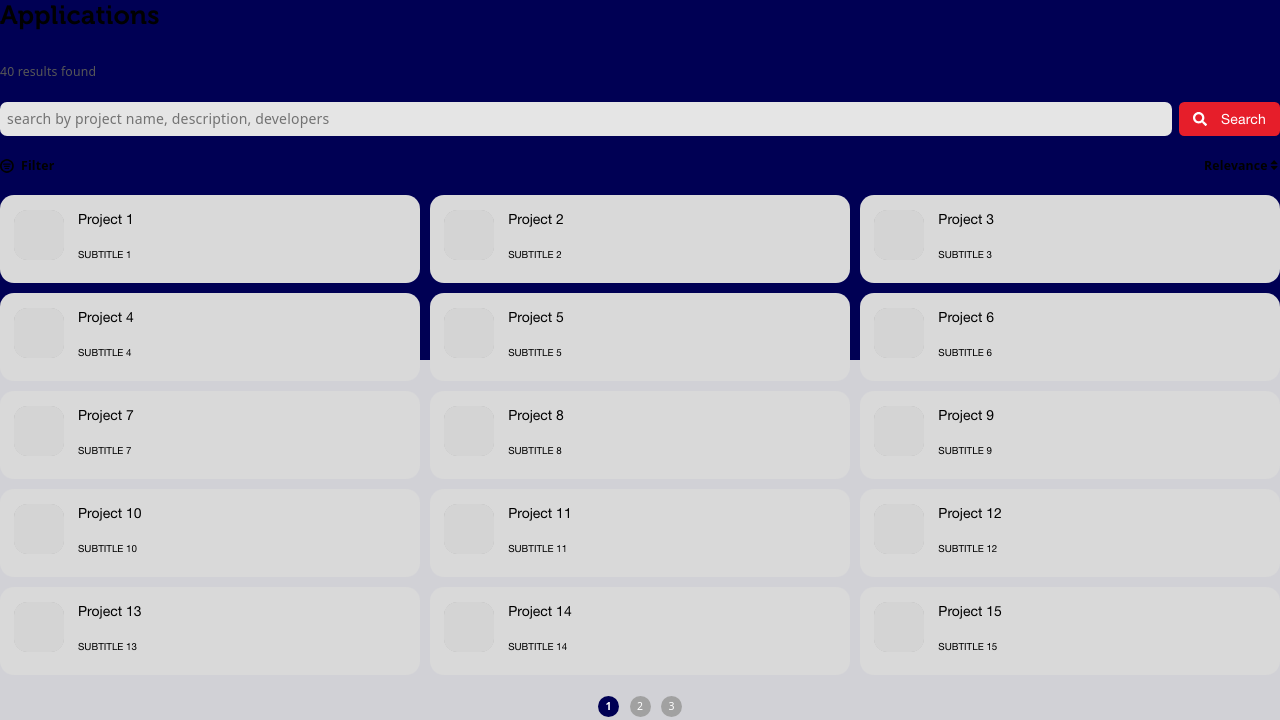
SearchResultsPage › searching › goes back to the first page when the term changes
Expected: the text "40 results found" is shown, x1=0 y1=63 x2=96 y2=80
Click the button "2": (640, 706) x1=630 y1=696 x2=650 y2=717
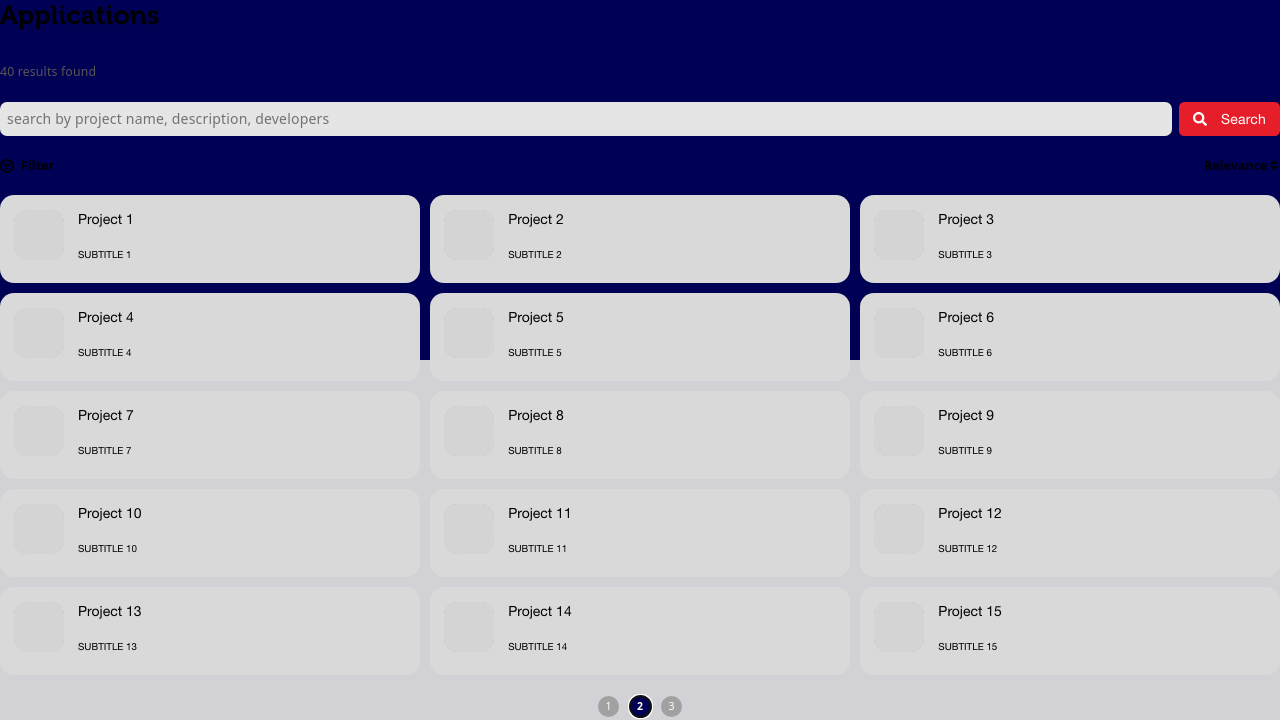
In the field: (586, 119) x1=0 y1=102 x2=1172 y2=136, type "maps"
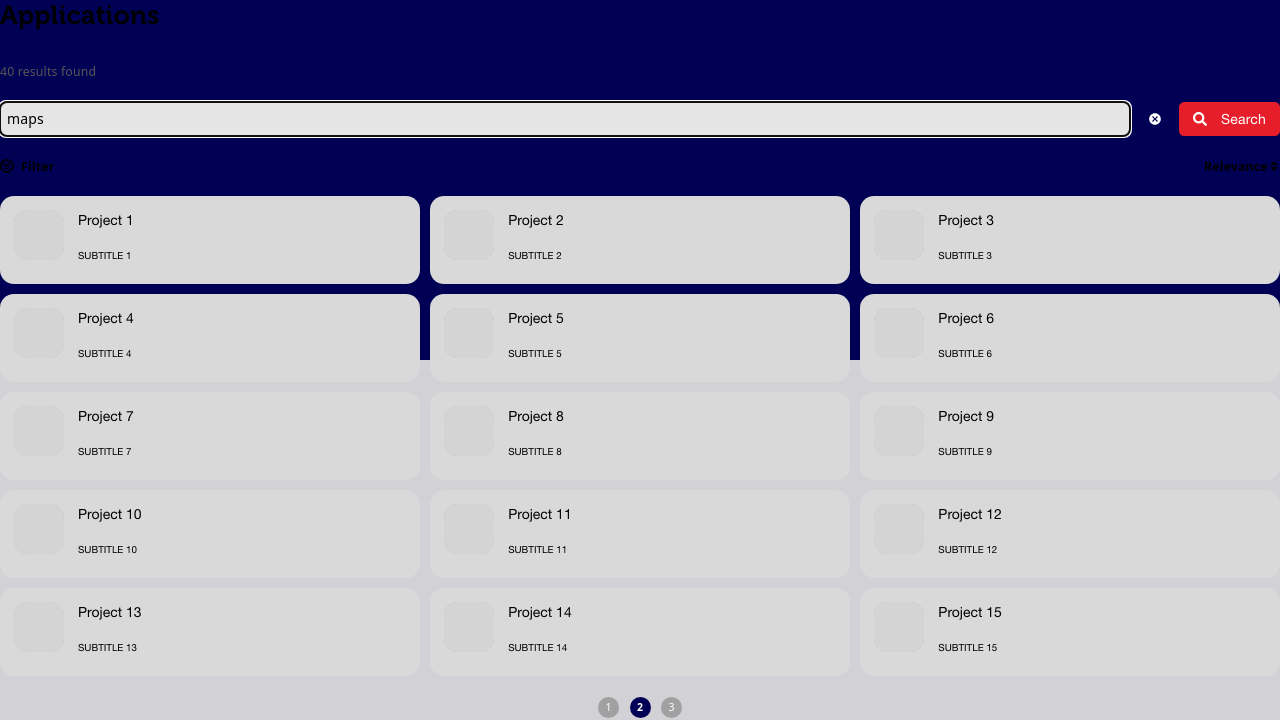
Click the button "Search": (1230, 119) x1=1179 y1=102 x2=1279 y2=136
(page scrolled)
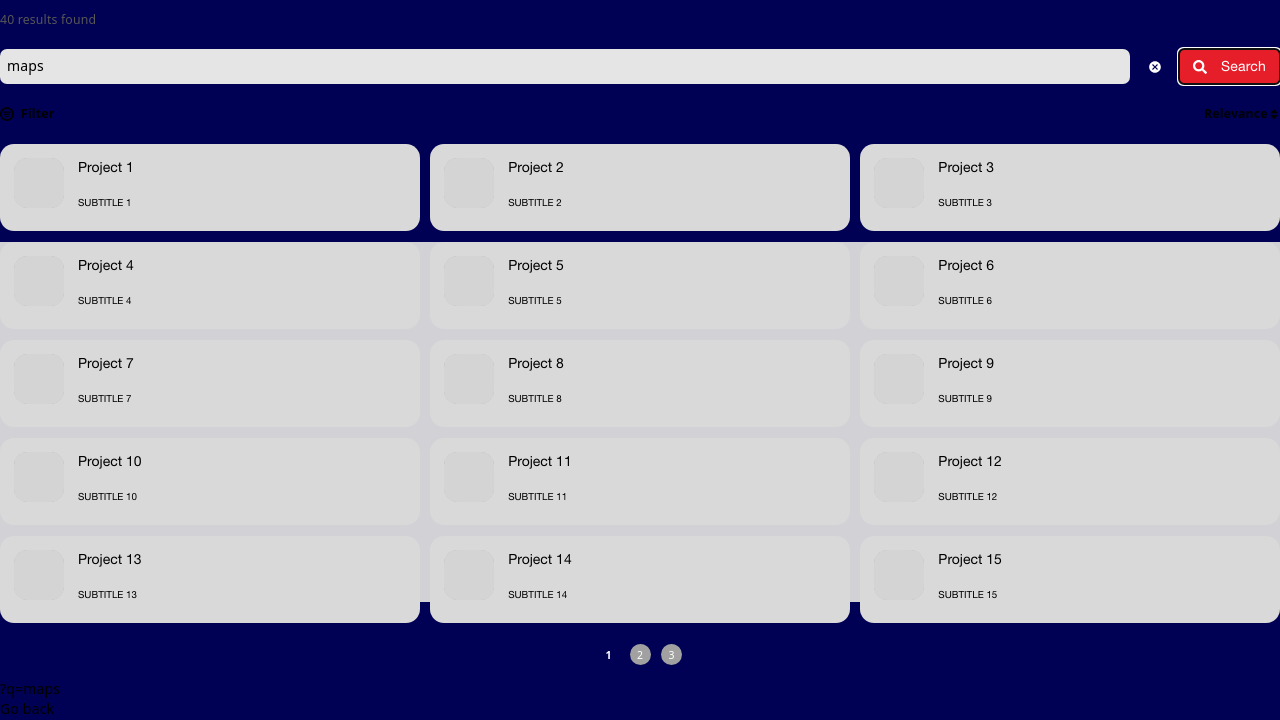
Now the text with test id "location" reads "?q=maps", box x1=0 y1=679 x2=60 y2=698
